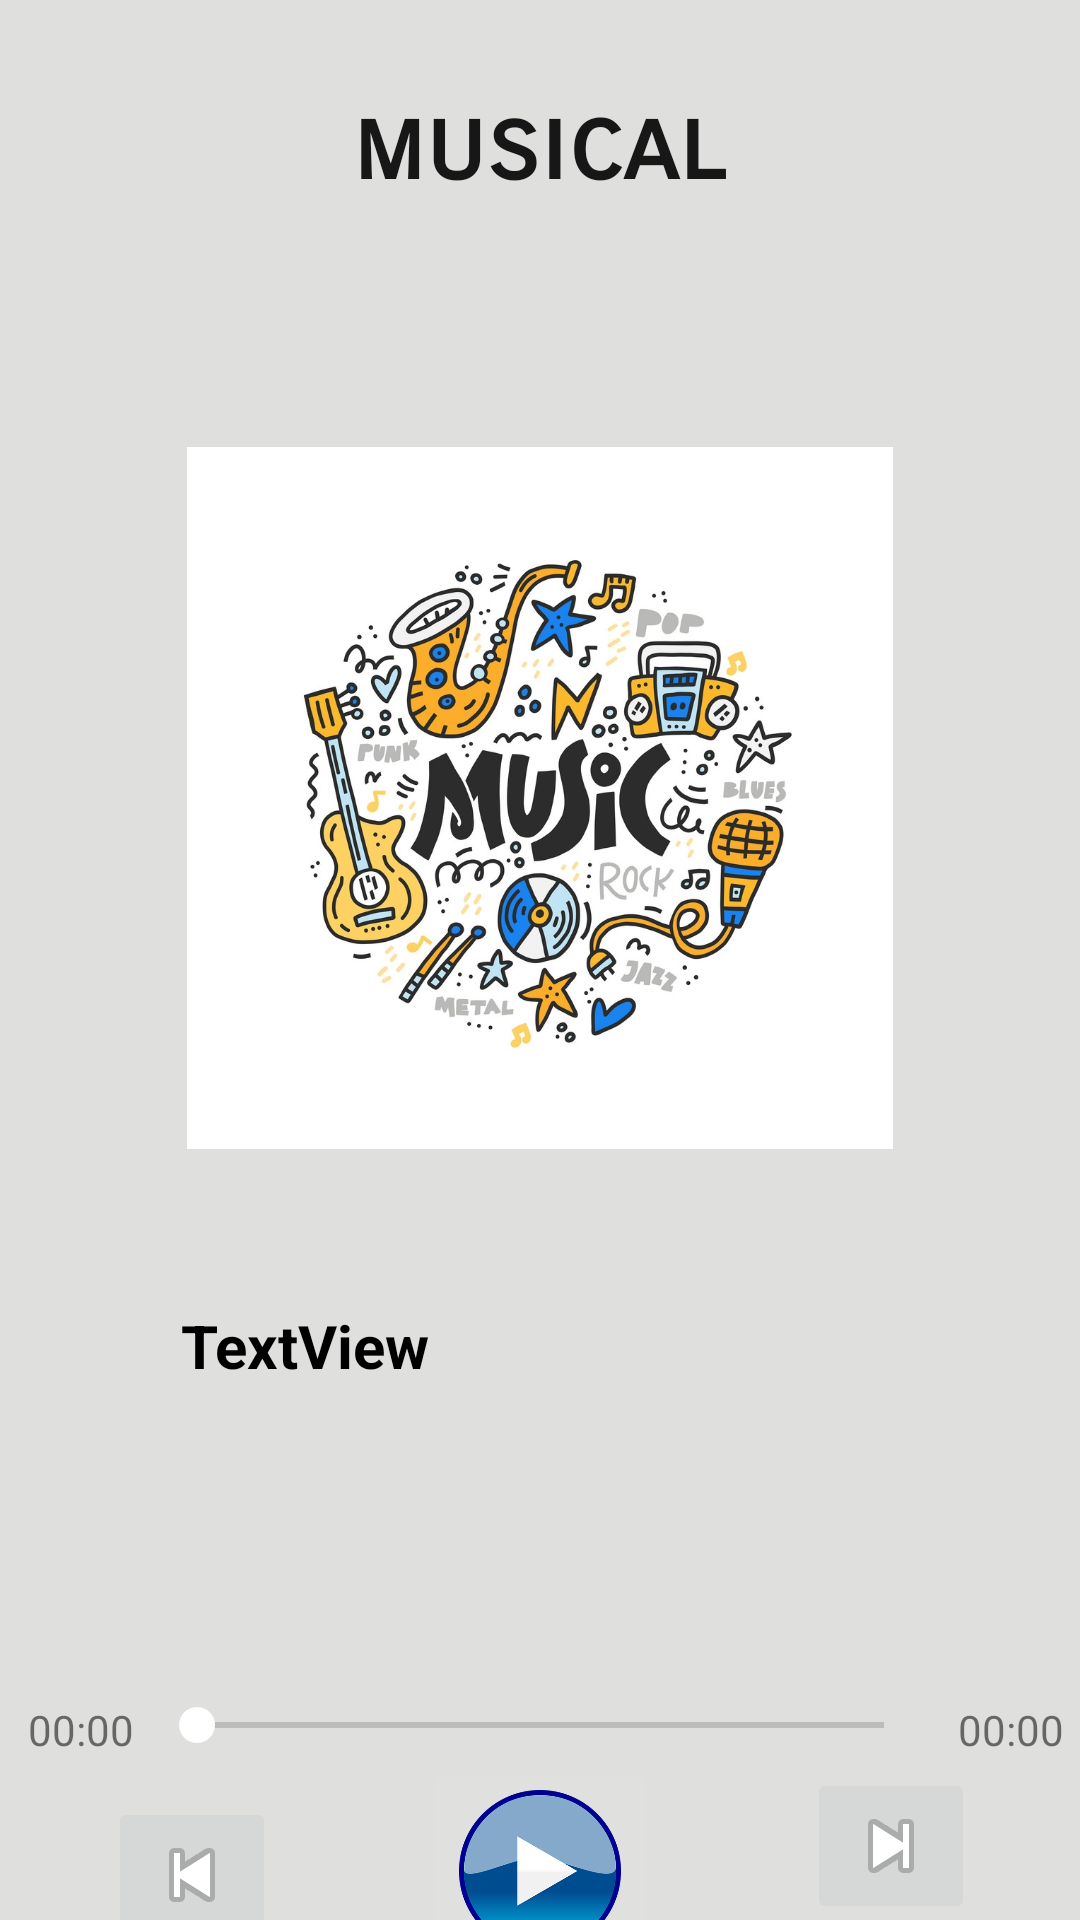

Icons on this 1080px x 1920px Android screen, each with the point to tap as [x,y]:
next: [891,1846]
